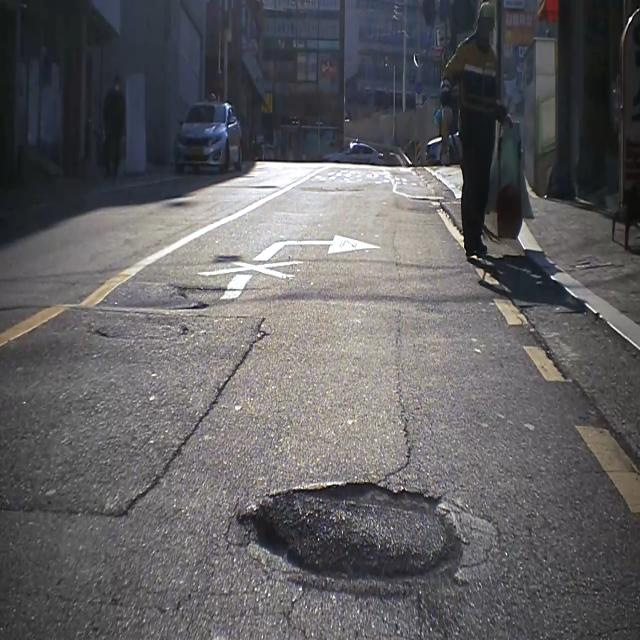Pothole: (225, 462, 475, 606)
